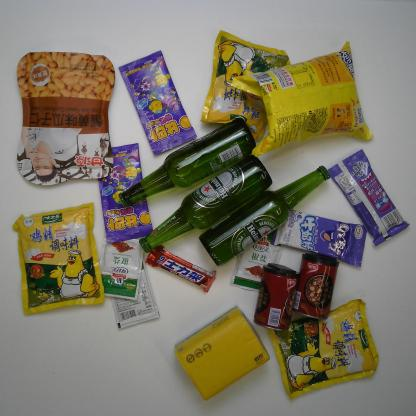Alcohol: (138, 154, 278, 258), (199, 164, 333, 270), (116, 121, 258, 211)
Candy: (118, 49, 200, 156), (326, 148, 411, 249), (271, 204, 369, 270), (96, 142, 153, 244)
Canned Food: (246, 261, 304, 334), (291, 250, 341, 324)
Chocolate: (143, 242, 217, 293)
Dried Fruit: (15, 50, 116, 188)
Puffed Food: (230, 39, 374, 157)
Seasoner: (265, 297, 382, 403), (11, 201, 106, 315), (200, 29, 291, 146), (109, 258, 161, 330), (227, 228, 286, 291), (99, 230, 144, 301)
Tissue: (174, 305, 272, 404)
